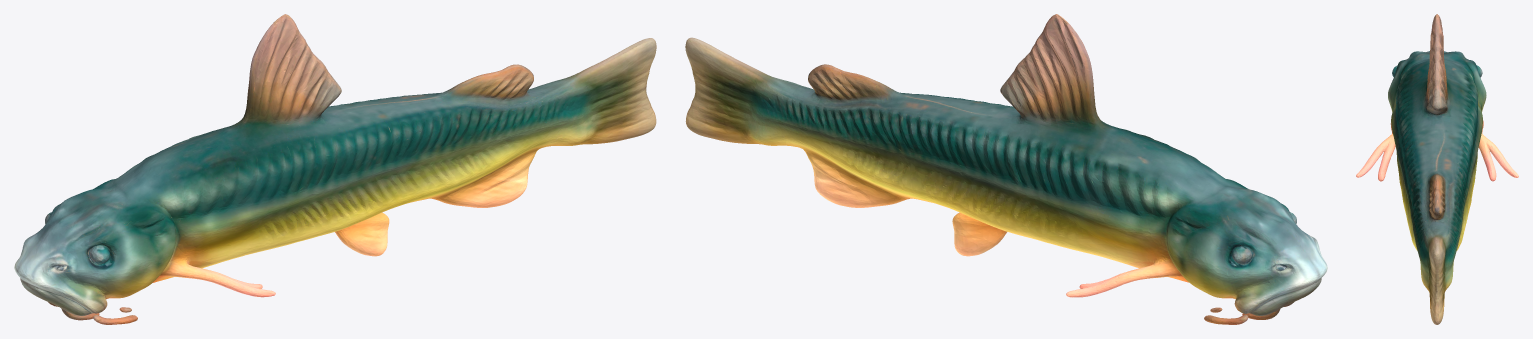
The model's file is fish.fbx.
The picture shows the model from 3 angles, left to right: view 1: azimuth 30°, elevation 25°; view 2: azimuth 150°, elevation 25°; view 3: azimuth 270°, elevation 25°; orthographic projection. The views are drawn at different scales.
Parts seen in each view (by area): view 1: world; view 2: world; view 3: world.
Part boxes in pixels (x1,y1,x2,y2): world: (14, 14, 656, 324); world: (685, 14, 1327, 324); world: (1356, 14, 1518, 324).
Size of the model in its own units: 199 by 78.94 by 54.51.
Materials: 1 (1 with a texture image).
